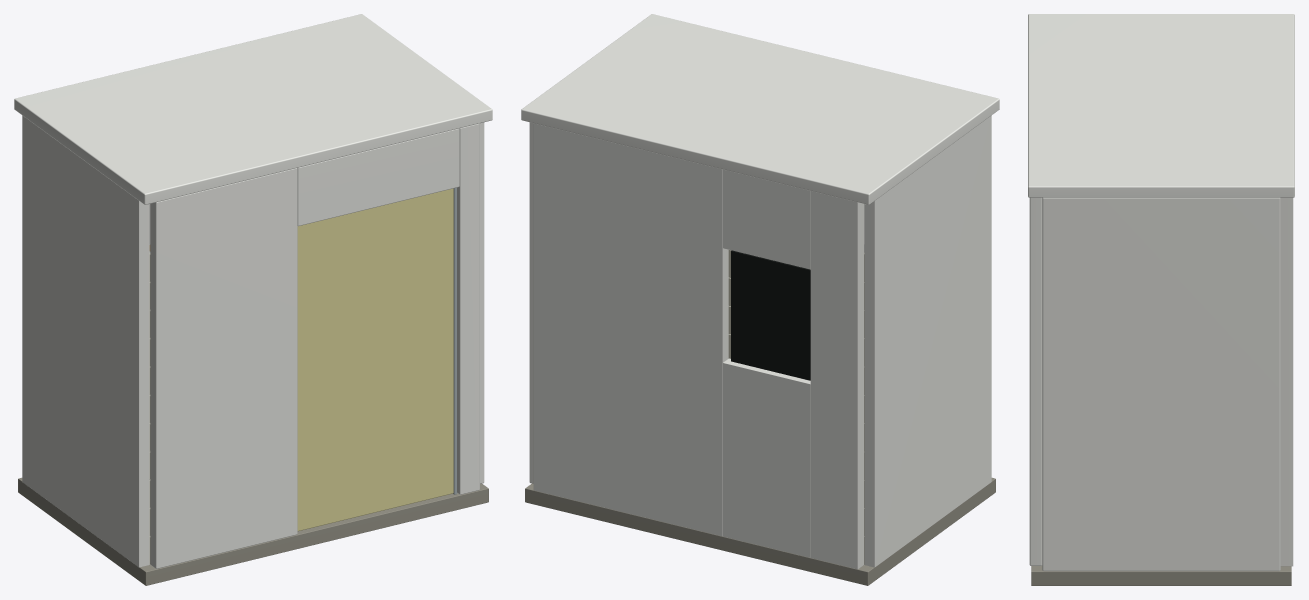
Rendered from bathroom-existing.glb.
3 renders of one model, left to right at view 1: azimuth 30°, elevation 25°; view 2: azimuth 150°, elevation 25°; view 3: azimuth 270°, elevation 25°, orthographic.
Parts seen in each view (by area): view 1: wall_south_surface, Ceiling, Door slab, wall_west_surface, floor_surface, wall_east_surface, Door edge.001; view 2: wall_north_surface, Ceiling, wall_west_surface, Window dark recess, floor_surface, wall_east_surface; view 3: wall_east_surface, Ceiling, wall_north_surface, wall_south_surface, floor_surface.
Boxes of the visible parts, x1,y1,x2,y2 form: wall_south_surface: [150, 123, 479, 568]; Ceiling: [14, 14, 492, 204]; Door slab: [297, 188, 453, 531]; wall_west_surface: [22, 115, 150, 567]; floor_surface: [18, 477, 488, 585]; wall_east_surface: [480, 122, 484, 483]; Door edge.001: [453, 187, 457, 494]; wall_north_surface: [533, 123, 863, 569]; Ceiling: [521, 14, 999, 204]; wall_west_surface: [864, 115, 991, 567]; Window dark recess: [731, 250, 810, 380]; floor_surface: [525, 477, 995, 585]; wall_east_surface: [529, 122, 533, 483]; wall_east_surface: [1042, 197, 1280, 571]; Ceiling: [1028, 14, 1294, 197]; wall_north_surface: [1280, 197, 1293, 566]; wall_south_surface: [1029, 197, 1042, 565]; floor_surface: [1031, 565, 1291, 585].
Bounding box in the file's own units: 2.58 × 2.79 × 1.68.
